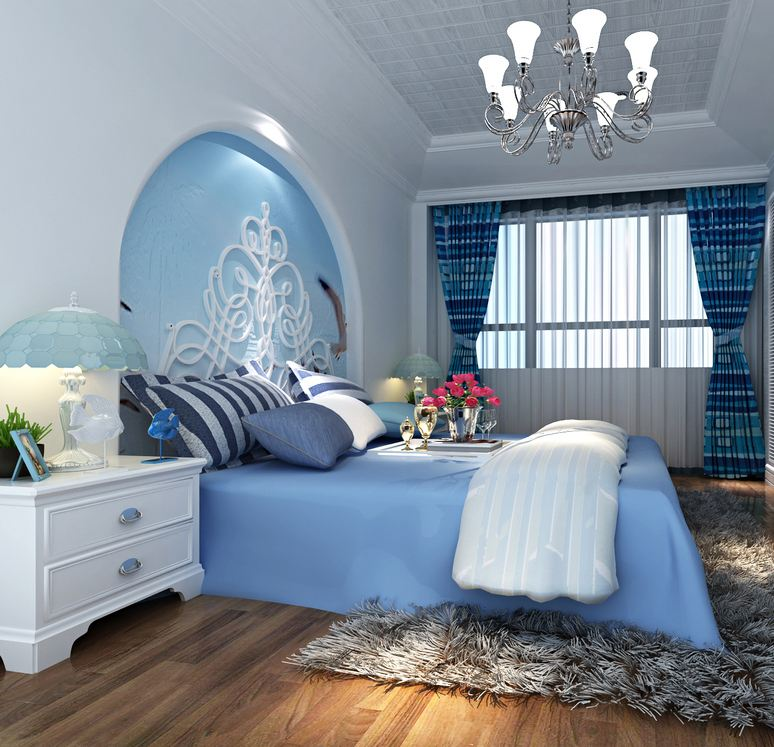床: (157, 422, 719, 627)
枕头: (151, 373, 392, 474)
灯: (482, 7, 676, 169), (6, 296, 145, 481)
